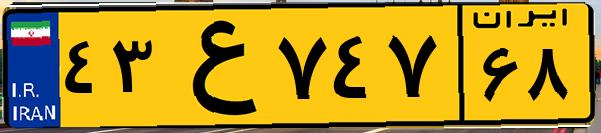3: (110, 28, 158, 98)
4: (330, 28, 385, 110), (57, 26, 110, 100)
6: (475, 38, 525, 113)
7: (270, 28, 330, 110), (385, 28, 445, 110)
8: (525, 38, 570, 115)
ع: (158, 12, 270, 120)
